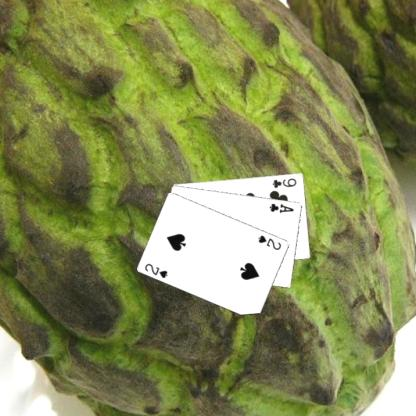2S: (256, 232, 282, 251), (142, 261, 169, 279)
9C: (270, 175, 298, 189)
AC: (267, 200, 295, 214)
